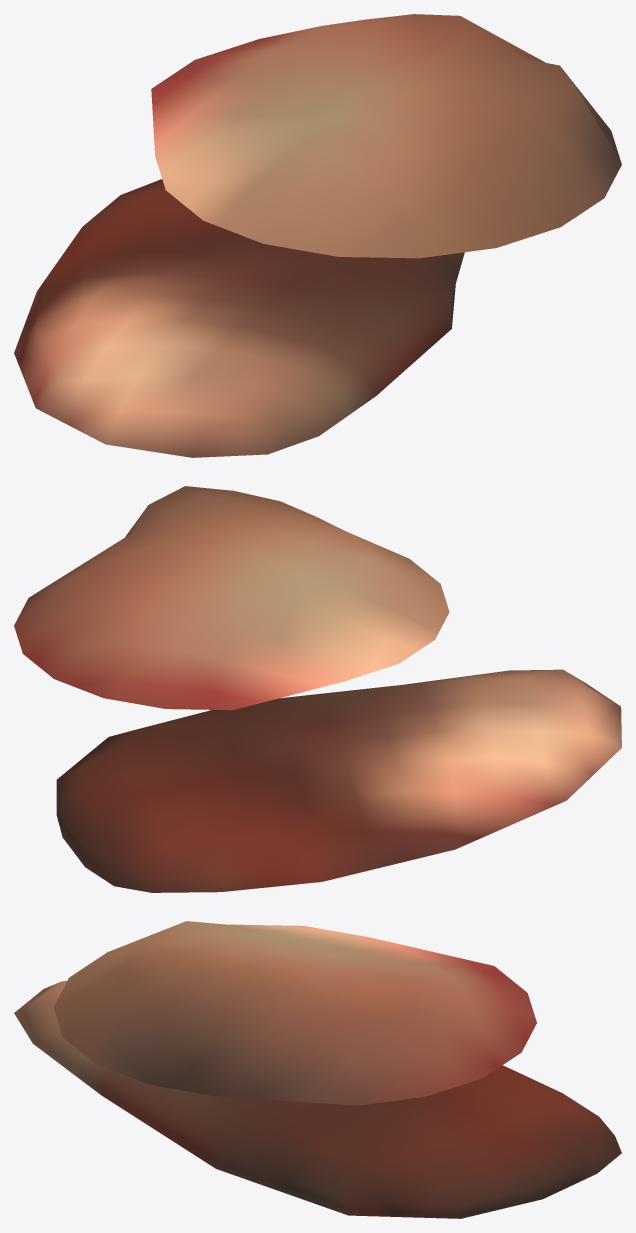
File: Beach_Tavern_Shells.glb
The picture shows the model from 3 angles, top to bottom: view 1: azimuth 30°, elevation 25°; view 2: azimuth 150°, elevation 25°; view 3: azimuth 270°, elevation 25°; orthographic projection. The views are drawn at different scales.
Visible parts, largest first — view 1: Object_2.011; view 2: Object_2.011; view 3: Object_2.011.
Boxes of the visible parts, bbox=[...] form: Object_2.011: bbox=[14, 14, 621, 457]; Object_2.011: bbox=[14, 486, 621, 892]; Object_2.011: bbox=[14, 921, 621, 1218].
Bounding box in the file's own units: 2.28 × 0.9624 × 2.33.
1 material, 1 textured.
